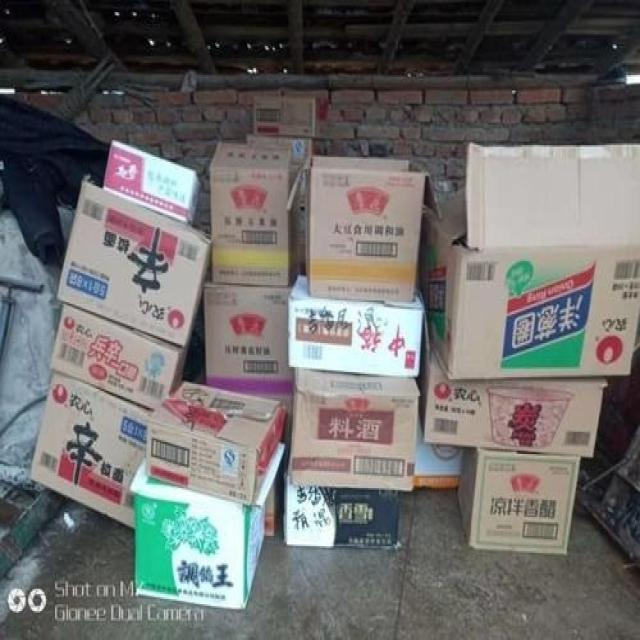box: (421, 139, 639, 374), (128, 442, 287, 611), (55, 179, 212, 346), (424, 348, 607, 459), (29, 374, 151, 527), (305, 154, 425, 300), (147, 382, 285, 505), (288, 369, 421, 495), (49, 302, 187, 411), (288, 273, 425, 377), (454, 449, 581, 555), (210, 142, 297, 287), (204, 285, 294, 404), (283, 476, 399, 550), (102, 140, 202, 225), (412, 422, 463, 492), (253, 96, 315, 138), (247, 135, 311, 169)
